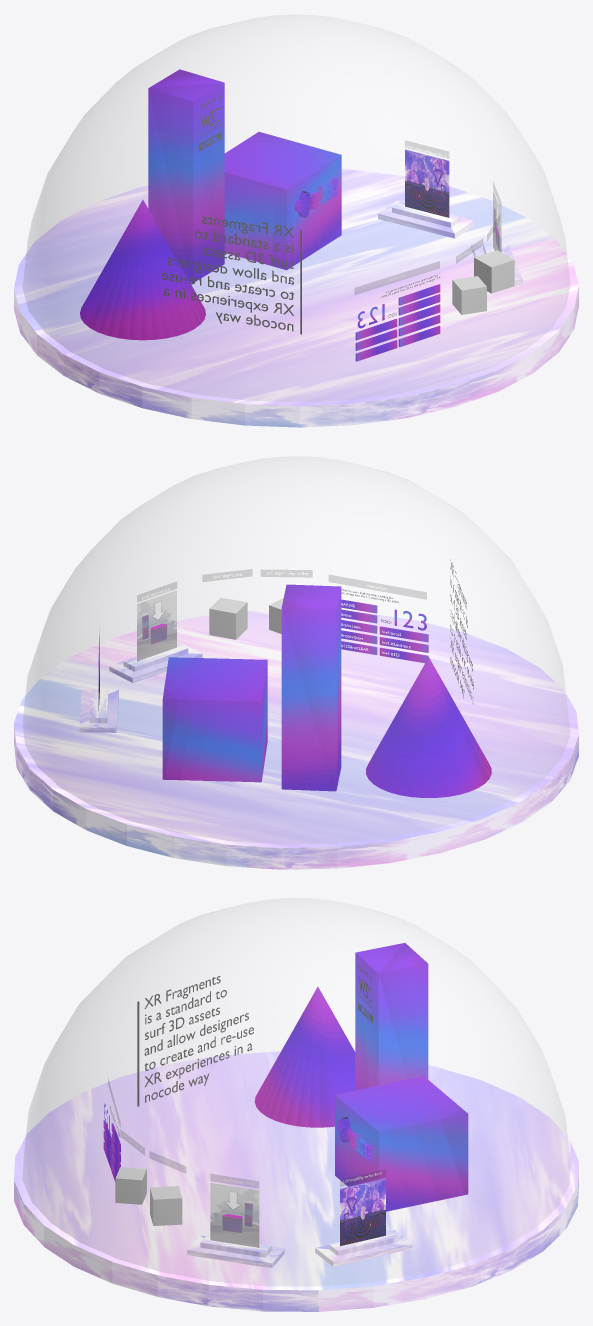
Rendered from query.gltf.
The picture shows the model from 3 angles, top to bottom: view 1: azimuth 30°, elevation 25°; view 2: azimuth 150°, elevation 25°; view 3: azimuth 270°, elevation 25°; orthographic projection.
Visible parts, largest first — view 1: floorstone, primitives, cube, Text.001, door, step, cube.001, cube.002, logo_nlnet, title_bg.003, step.001; view 2: floorstone, primitives, cube, door.001, step, step.001, cube.001, Text.001, title_bg.003; view 3: floorstone, primitives, cube, door.001, Text.001, door, step.001, step, cube.001, cube.002, logo_nlnet.
Part boxes in pixels (<box>): floorstone: <box>14,169,578,427</box>; primitives: <box>80,69,224,340</box>; cube: <box>224,132,341,270</box>; Text.001: <box>161,216,294,331</box>; door: <box>405,149,449,217</box>; step: <box>378,200,474,238</box>; cube.001: <box>474,250,514,293</box>; cube.002: <box>452,276,486,314</box>; logo_nlnet: <box>294,177,338,217</box>; title_bg.003: <box>355,261,439,294</box>; step.001: <box>471,242,522,285</box>; floorstone: <box>14,610,578,869</box>; primitives: <box>281,584,491,797</box>; cube: <box>162,657,267,782</box>; door.001: <box>137,590,176,661</box>; step: <box>79,688,118,732</box>; step.001: <box>109,642,202,682</box>; cube.001: <box>209,597,247,639</box>; Text.001: <box>450,559,473,704</box>; title_bg.003: <box>329,575,426,598</box>; floorstone: <box>14,1051,578,1311</box>; primitives: <box>254,943,428,1127</box>; cube: <box>335,1076,468,1211</box>; door.001: <box>210,1183,259,1247</box>; Text.001: <box>144,976,253,1102</box>; door: <box>340,1178,385,1246</box>; step.001: <box>187,1235,284,1268</box>; step: <box>315,1230,412,1266</box>; cube.001: <box>150,1186,182,1225</box>; cube.002: <box>115,1167,146,1204</box>; logo_nlnet: <box>337,1117,373,1160</box>.
Size of what is drawn, in the model's own units: 20.66 by 10.86 by 20.66.
10 materials, 3 textured.
